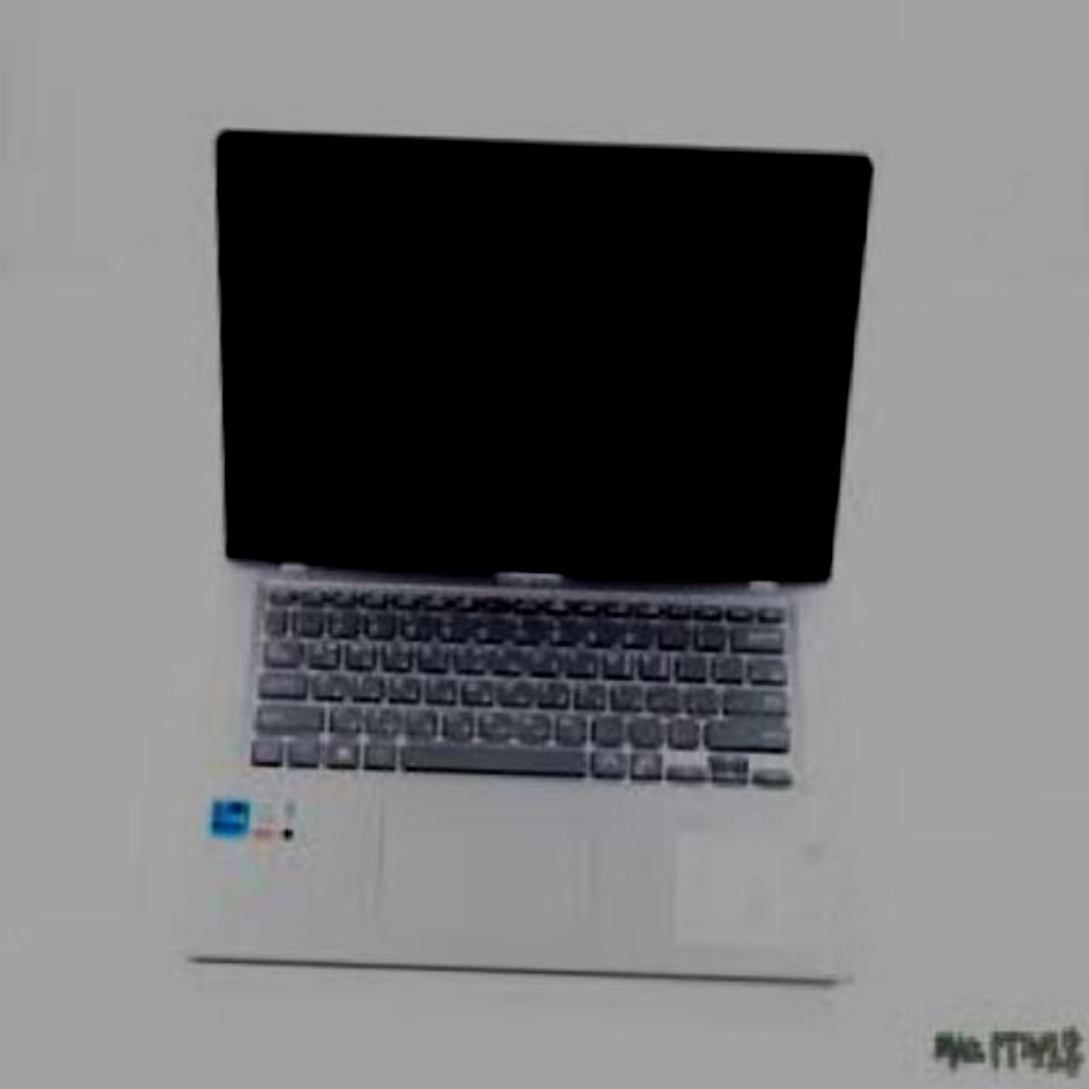laptop: (140, 88, 935, 1029)
